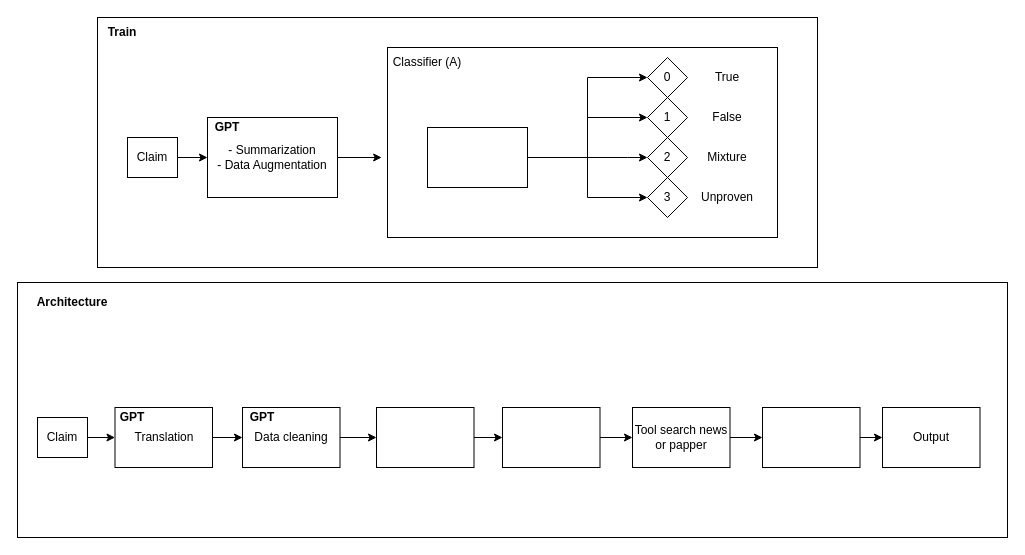
The diagram is 1025 pixels wide and 555 high, and some of its shapes have lost their labels. Here are the shapes that lost their labels. From the top down, the centre of each, then its label:
At [477,157]: "Embeddings (Pre-trained)".
At [425,437]: "Classification (model A)".
At [551,437]: "Retrieval QA Explanation".
At [811,437]: "Reverse Translation".
